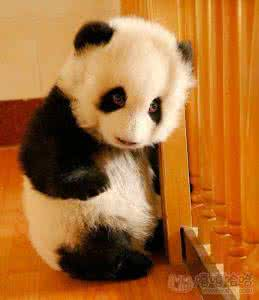panda: (14, 7, 199, 289)
